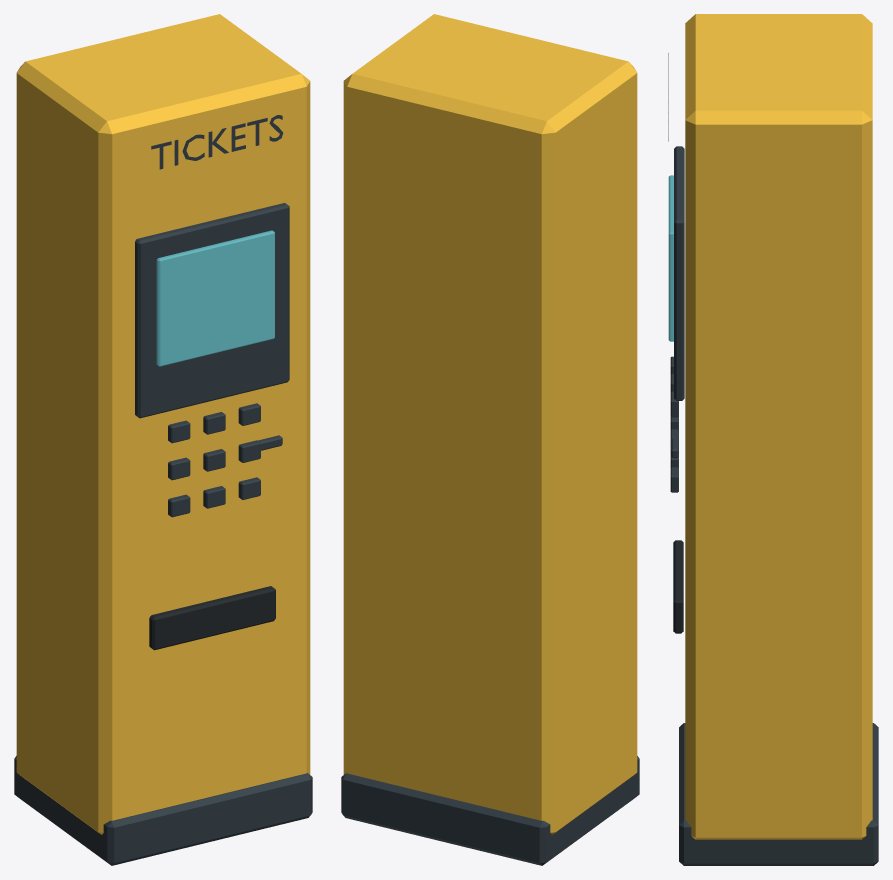
File: Ticket_Kiosk.glb
The picture shows the model from 3 angles, left to right: view 1: azimuth 30°, elevation 25°; view 2: azimuth 150°, elevation 25°; view 3: azimuth 270°, elevation 25°; orthographic projection.
Visible parts, largest first — view 1: Ticket_Kiosk; view 2: Ticket_Kiosk; view 3: Ticket_Kiosk.
Boxes of the visible parts, <box> form: Ticket_Kiosk: <box>14,14,312,865</box>; Ticket_Kiosk: <box>341,14,639,865</box>; Ticket_Kiosk: <box>668,14,878,865</box>.
Bounding box in the file's own units: 0.6 × 2 × 0.5057.
